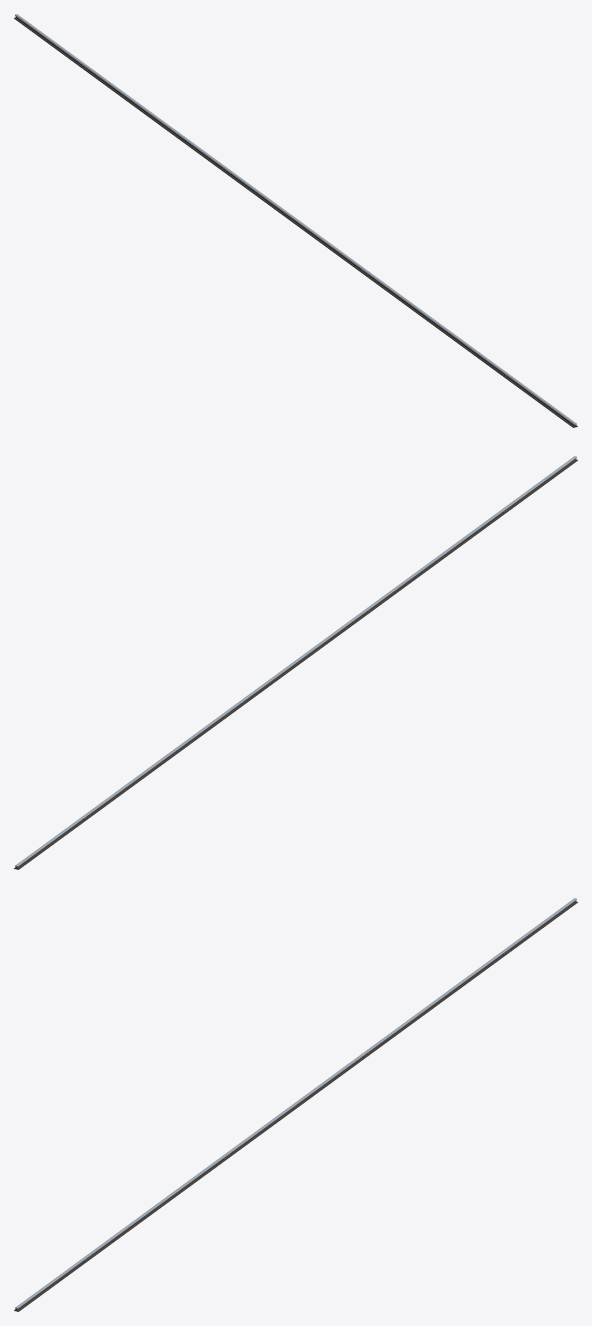
Rendered from rail_tramo.glb.
3 renders of one model, top to bottom at view 1: azimuth 30°, elevation 25°; view 2: azimuth 150°, elevation 25°; view 3: azimuth 330°, elevation 25°, orthographic.
Parts seen in each view (by area): view 1: Rail_Tramo; view 2: Rail_Tramo; view 3: Rail_Tramo.
Part boxes in pixels (x1=…): Rail_Tramo: x1=14, y1=14, x2=577, y2=427; Rail_Tramo: x1=14, y1=456, x2=577, y2=869; Rail_Tramo: x1=14, y1=898, x2=577, y2=1311.
Size of the model in its own units: 0.156 by 0.118 by 32.
